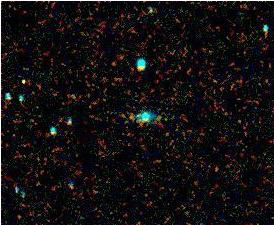star: (1, 71, 31, 101)
